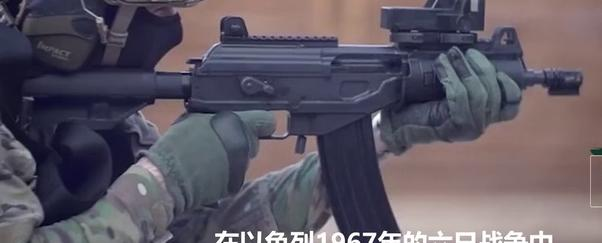gun: (1, 1, 602, 243)
